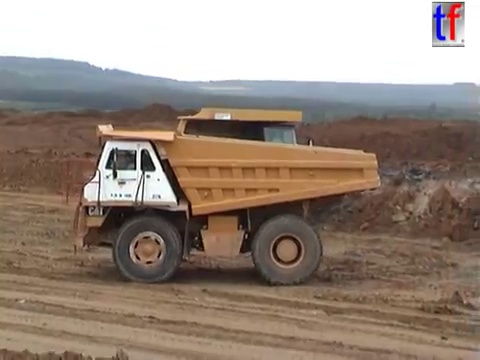truck: (59, 120, 383, 287), (114, 103, 317, 246)
